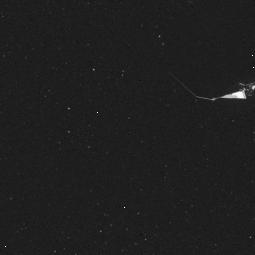lisa_pathfinder: (151, 42, 255, 124)
